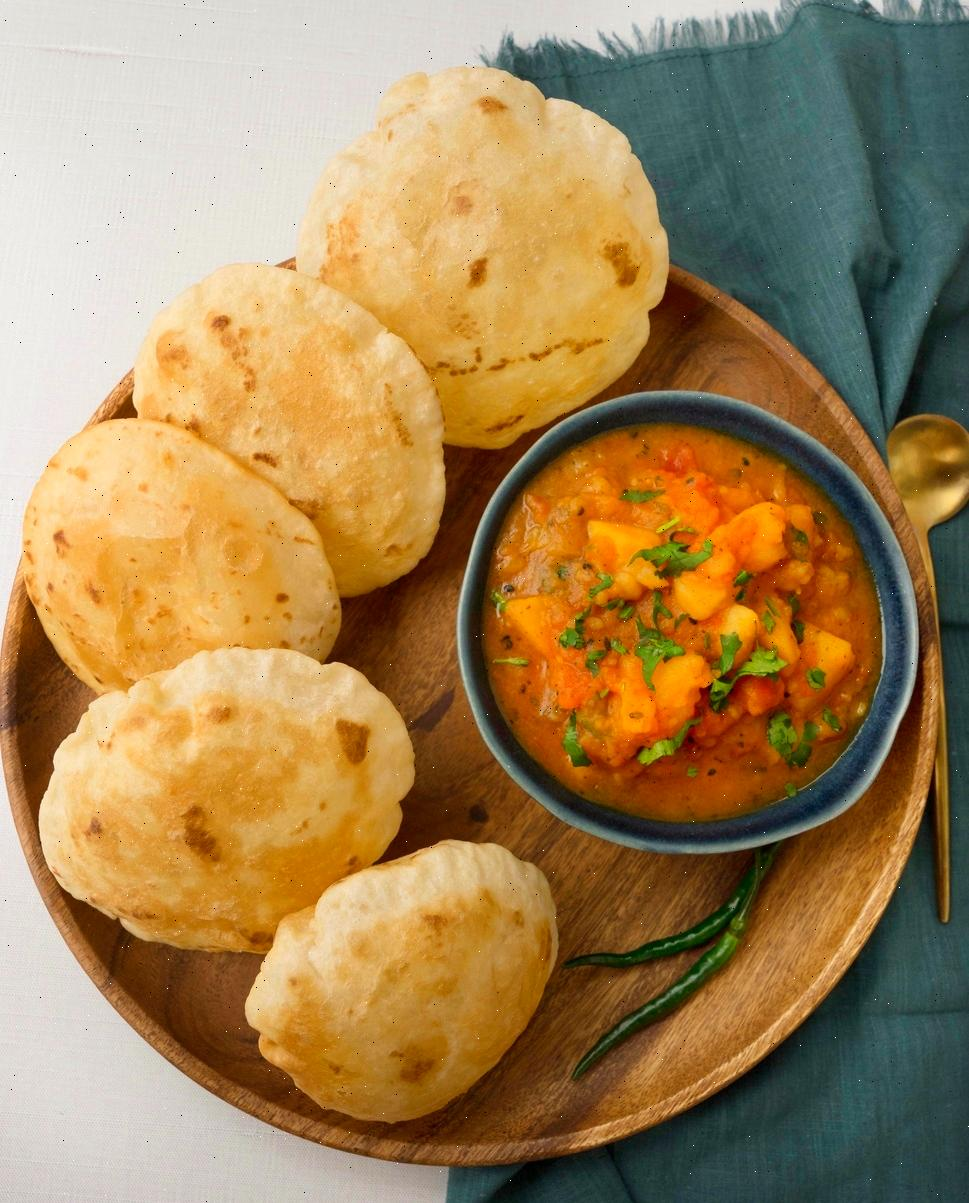puri: (50, 270, 463, 1120)
